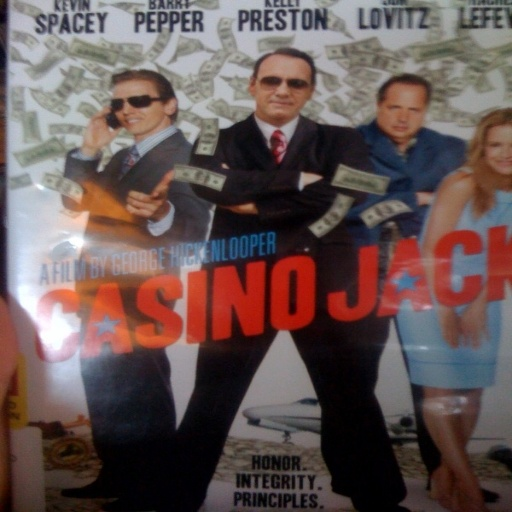hand: (110, 170, 174, 217), (81, 105, 125, 151), (221, 161, 254, 213), (458, 307, 492, 353), (436, 303, 464, 350), (302, 170, 323, 184)
